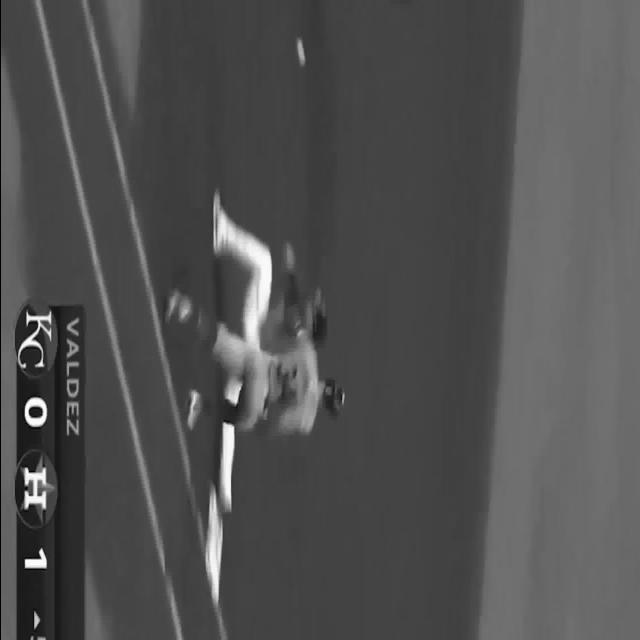base: (201, 488, 223, 616)
baseball: (295, 37, 305, 67)
baseball_glove: (283, 241, 295, 270)
shoe: (163, 288, 192, 324), (212, 188, 226, 254), (186, 388, 202, 430)
